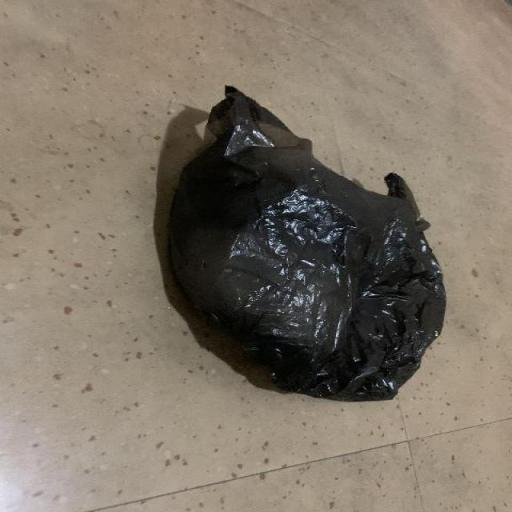plastic-bag: (162, 82, 452, 406)
